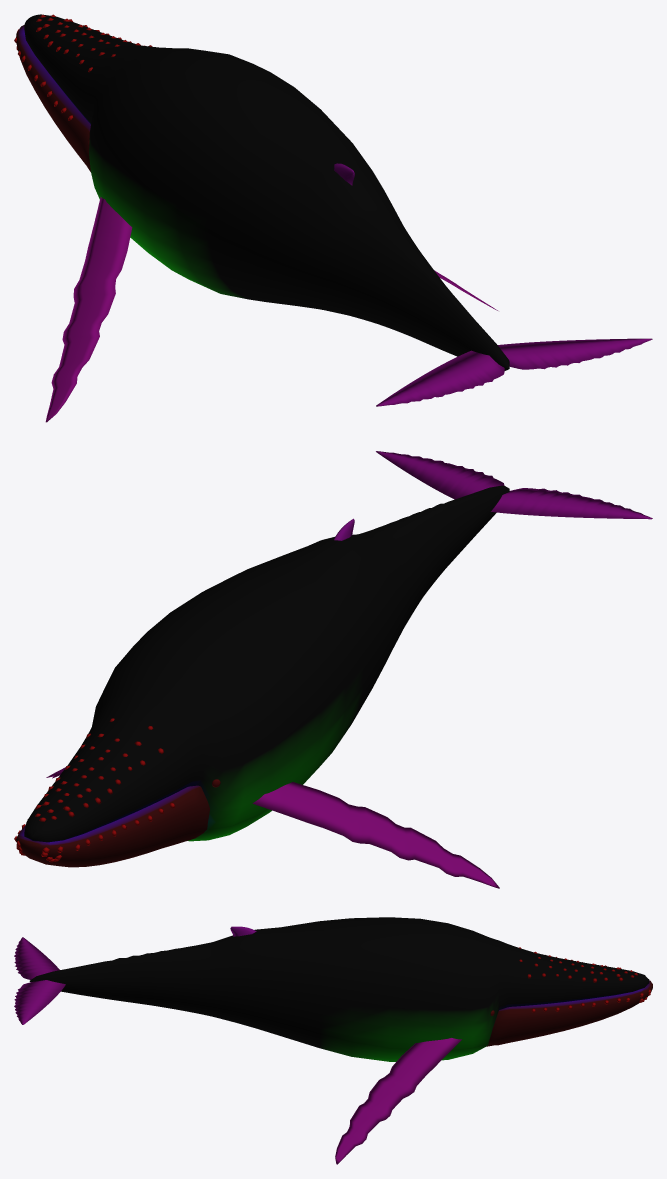
Rendered from humpback_whale_game.glb.
The picture shows the model from 3 angles, top to bottom: view 1: azimuth 30°, elevation 25°; view 2: azimuth 150°, elevation 25°; view 3: azimuth 270°, elevation 25°; orthographic projection. The views are drawn at different scales.
Parts seen in each view (by area): view 1: humpback_whale_game; view 2: humpback_whale_game; view 3: humpback_whale_game.
Part boxes in pixels (<box>): humpback_whale_game: <box>14,14,652,422</box>; humpback_whale_game: <box>14,451,652,888</box>; humpback_whale_game: <box>14,917,652,1164</box>.
Bounding box in the file's own units: 7.59 × 4.12 × 14.23.
